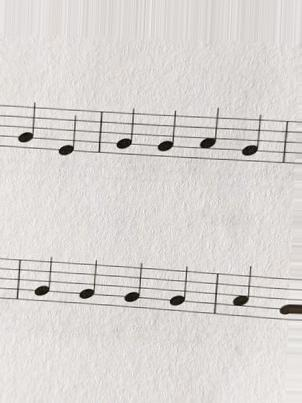note: (150, 107, 181, 167), (237, 110, 264, 170), (112, 105, 140, 161), (196, 104, 220, 169), (228, 263, 254, 323), (54, 103, 80, 161), (167, 265, 191, 324), (32, 253, 57, 308), (78, 260, 104, 311), (122, 260, 144, 315), (19, 99, 39, 155)
